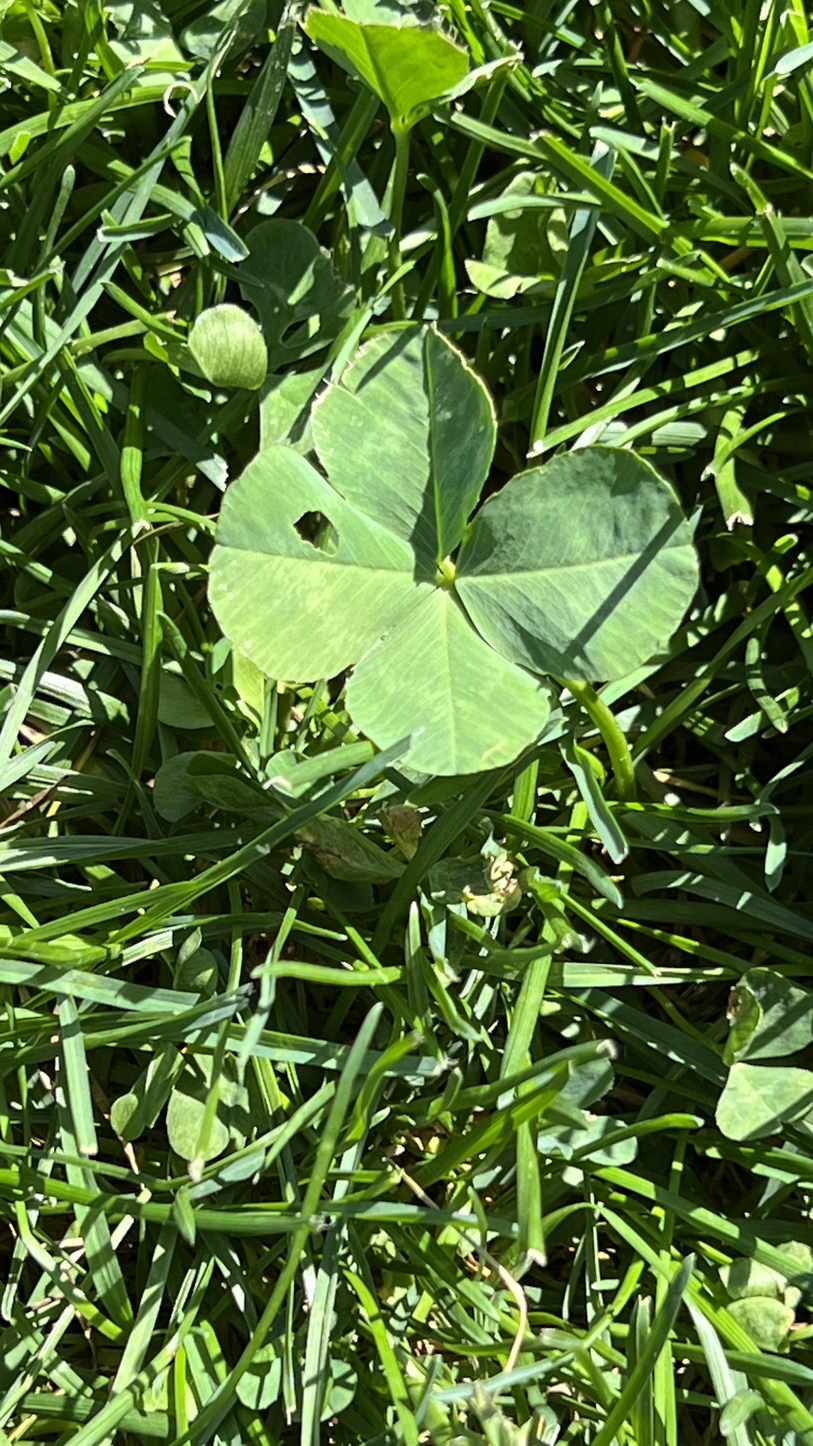4-Leaf-Clovers: (181, 208, 432, 1070)
